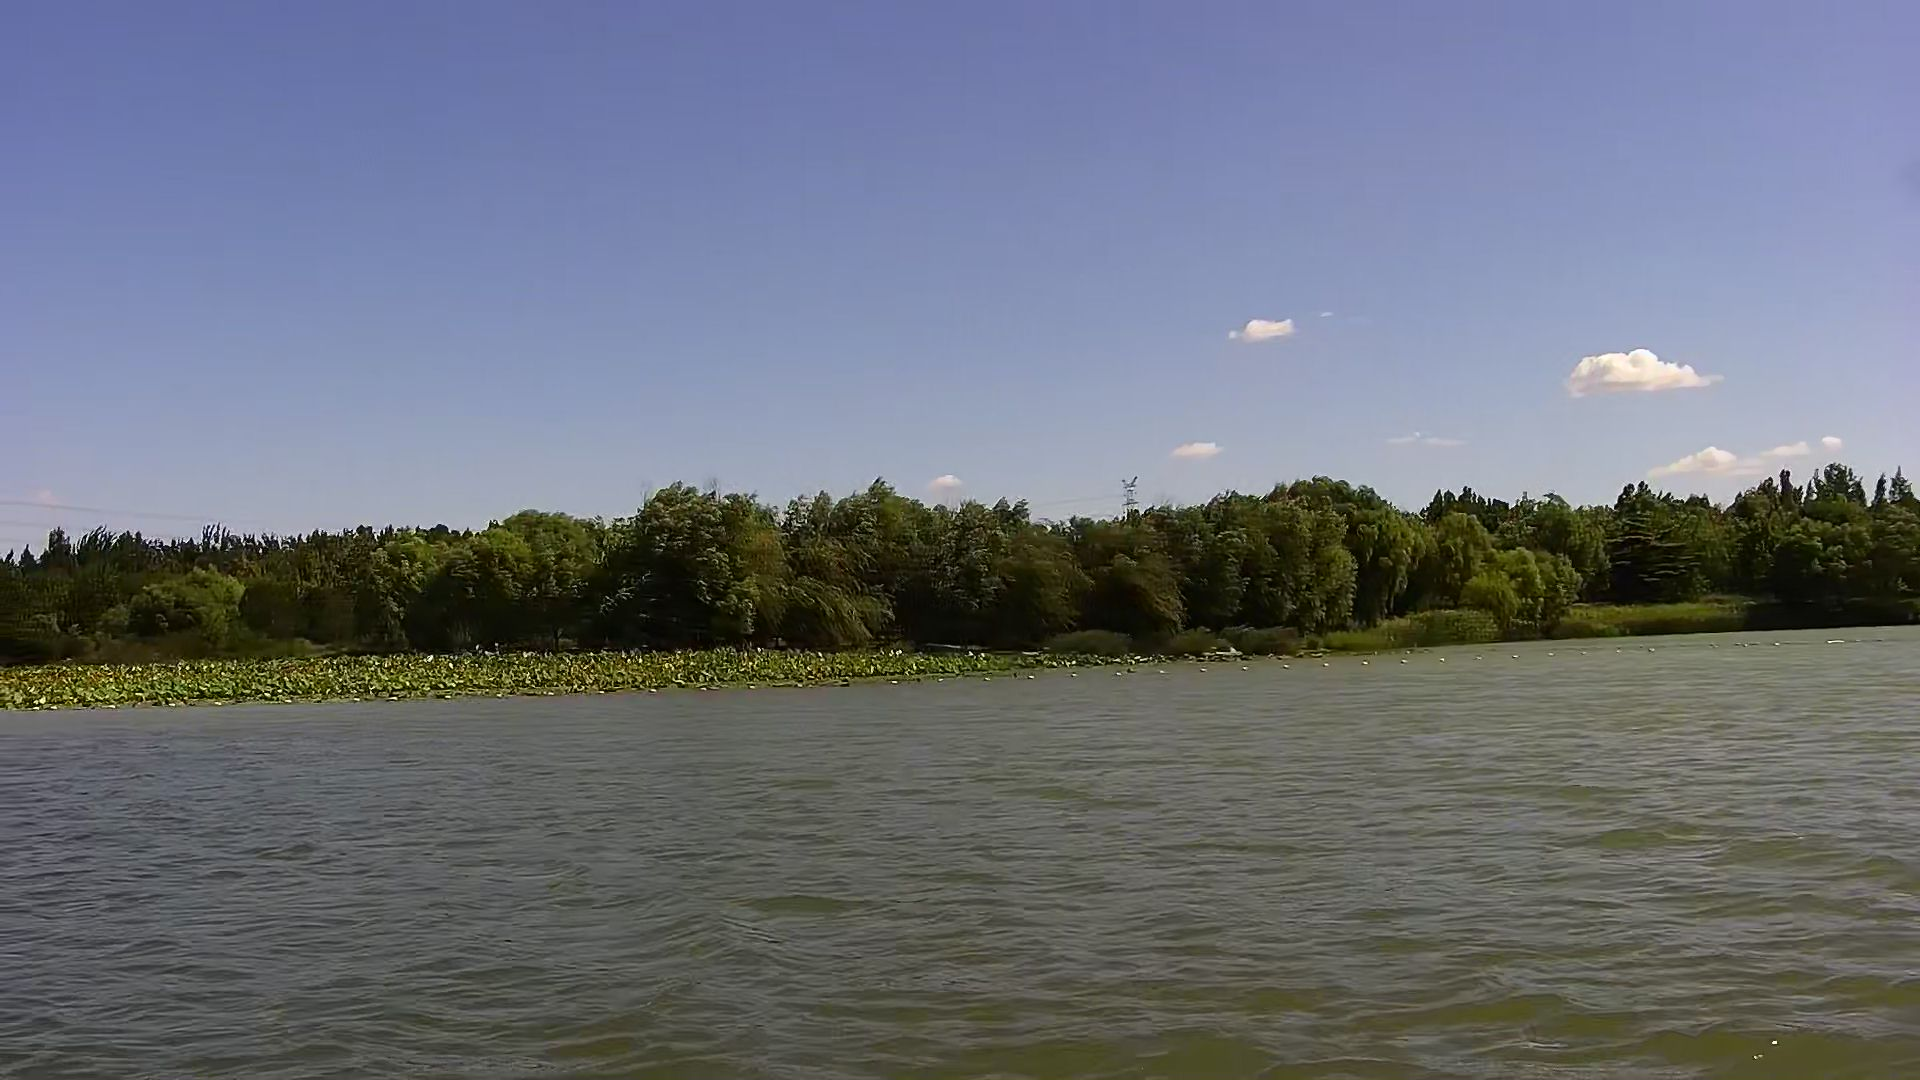grass: (3, 653, 1171, 698)
